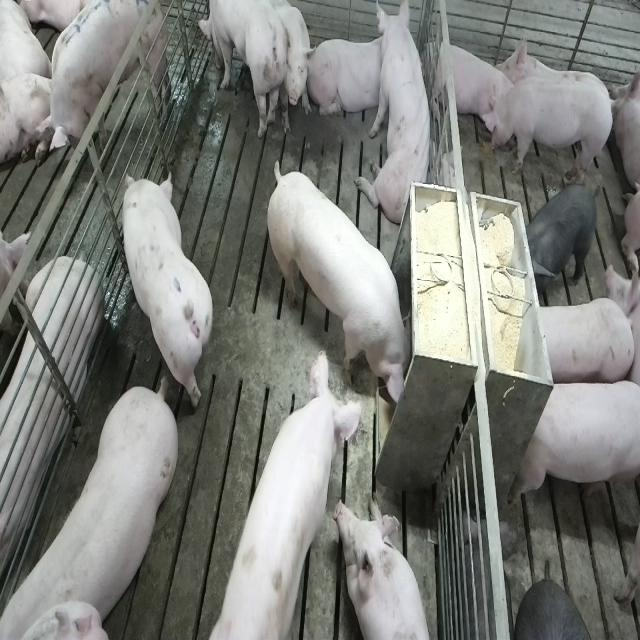Feeding: (201, 343, 369, 636), (271, 161, 421, 410)
Sitting: (357, 4, 437, 226), (196, 1, 315, 143)
Standing: (5, 375, 184, 635), (122, 170, 217, 413), (36, 0, 174, 153), (511, 377, 638, 522), (483, 79, 619, 183), (527, 296, 633, 388), (522, 181, 601, 288)
Sternal_lying: (0, 232, 100, 587), (337, 497, 438, 640), (429, 36, 512, 132), (310, 34, 389, 122)
